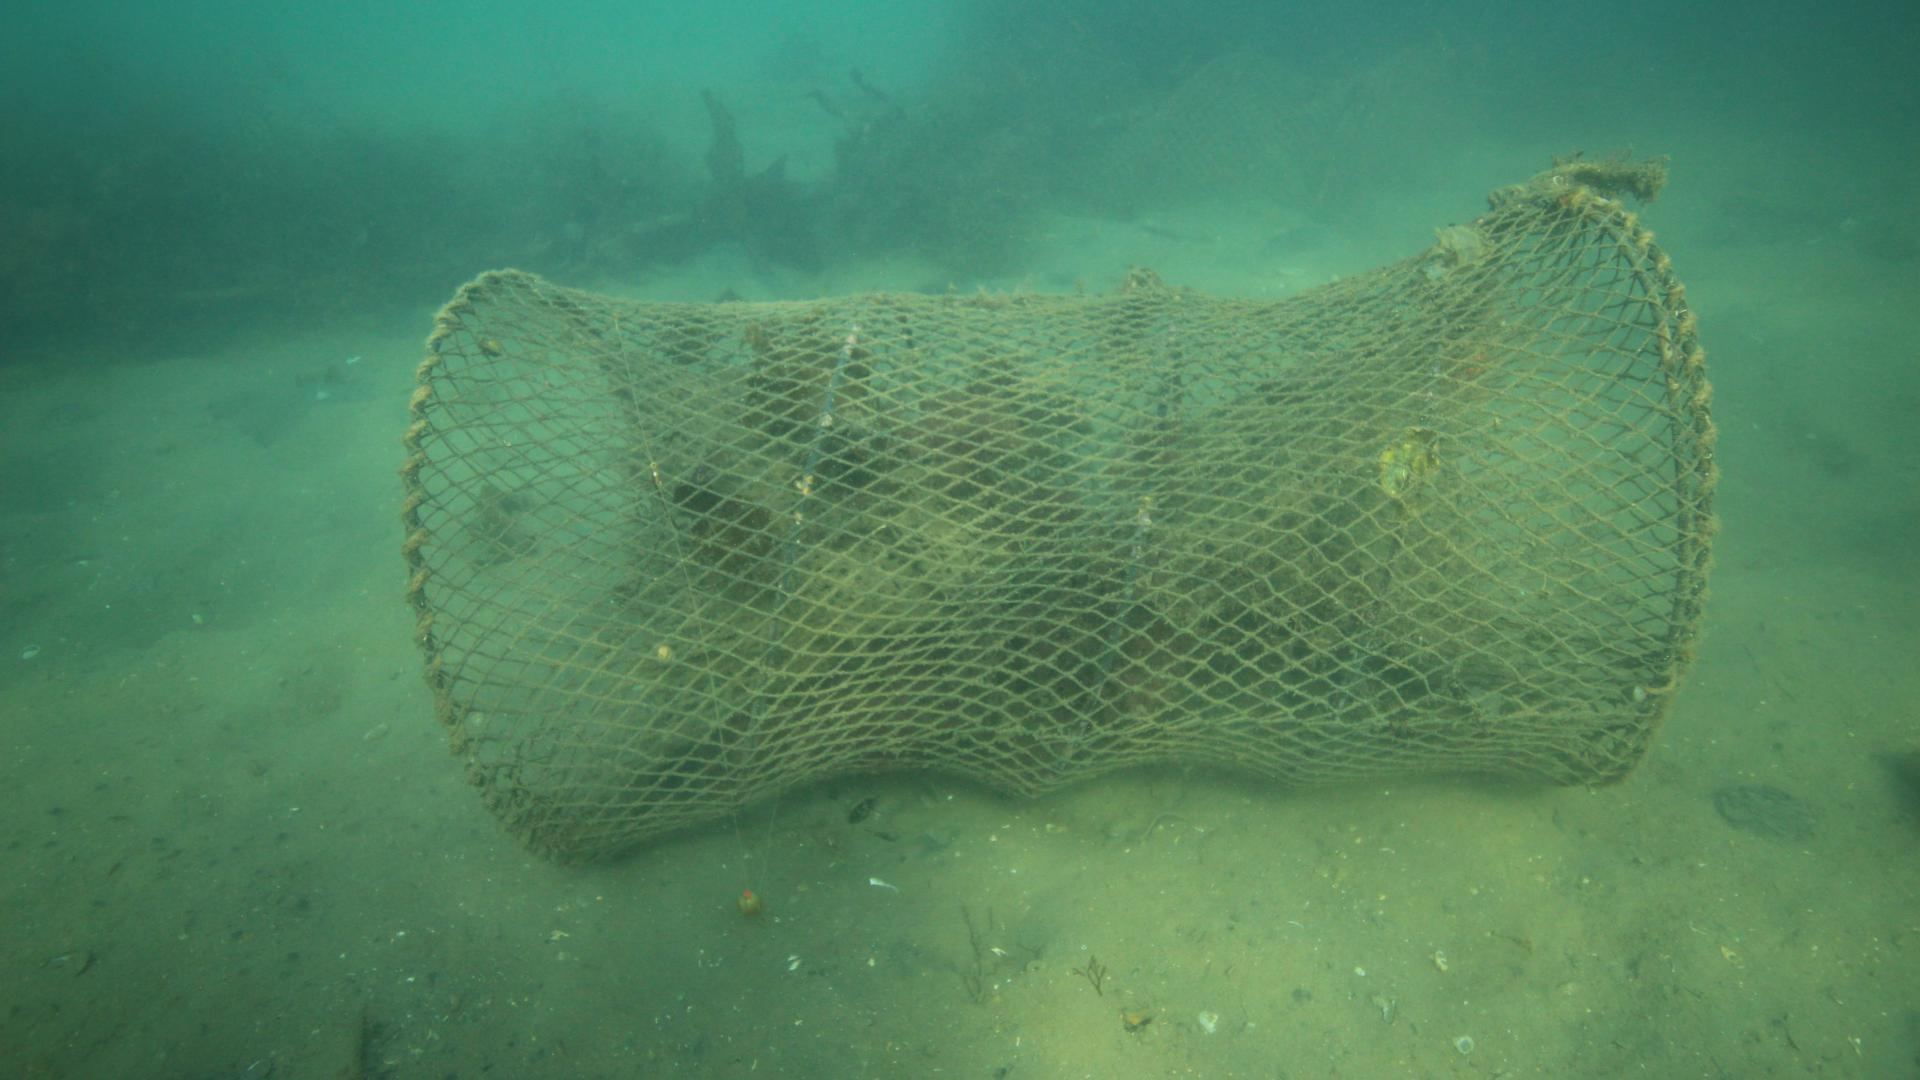spring fish trap: (400, 175, 1717, 874)
